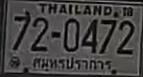0: (63, 18, 79, 50)
2: (116, 20, 134, 54), (31, 15, 48, 50)
4: (81, 18, 97, 52)
7: (12, 15, 31, 50), (99, 18, 116, 52)
SPK: (31, 55, 112, 73)
